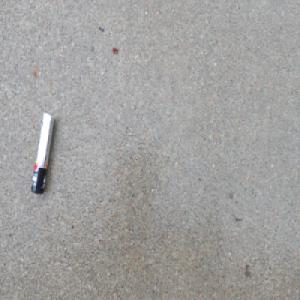Battery: (29, 110, 55, 196)
